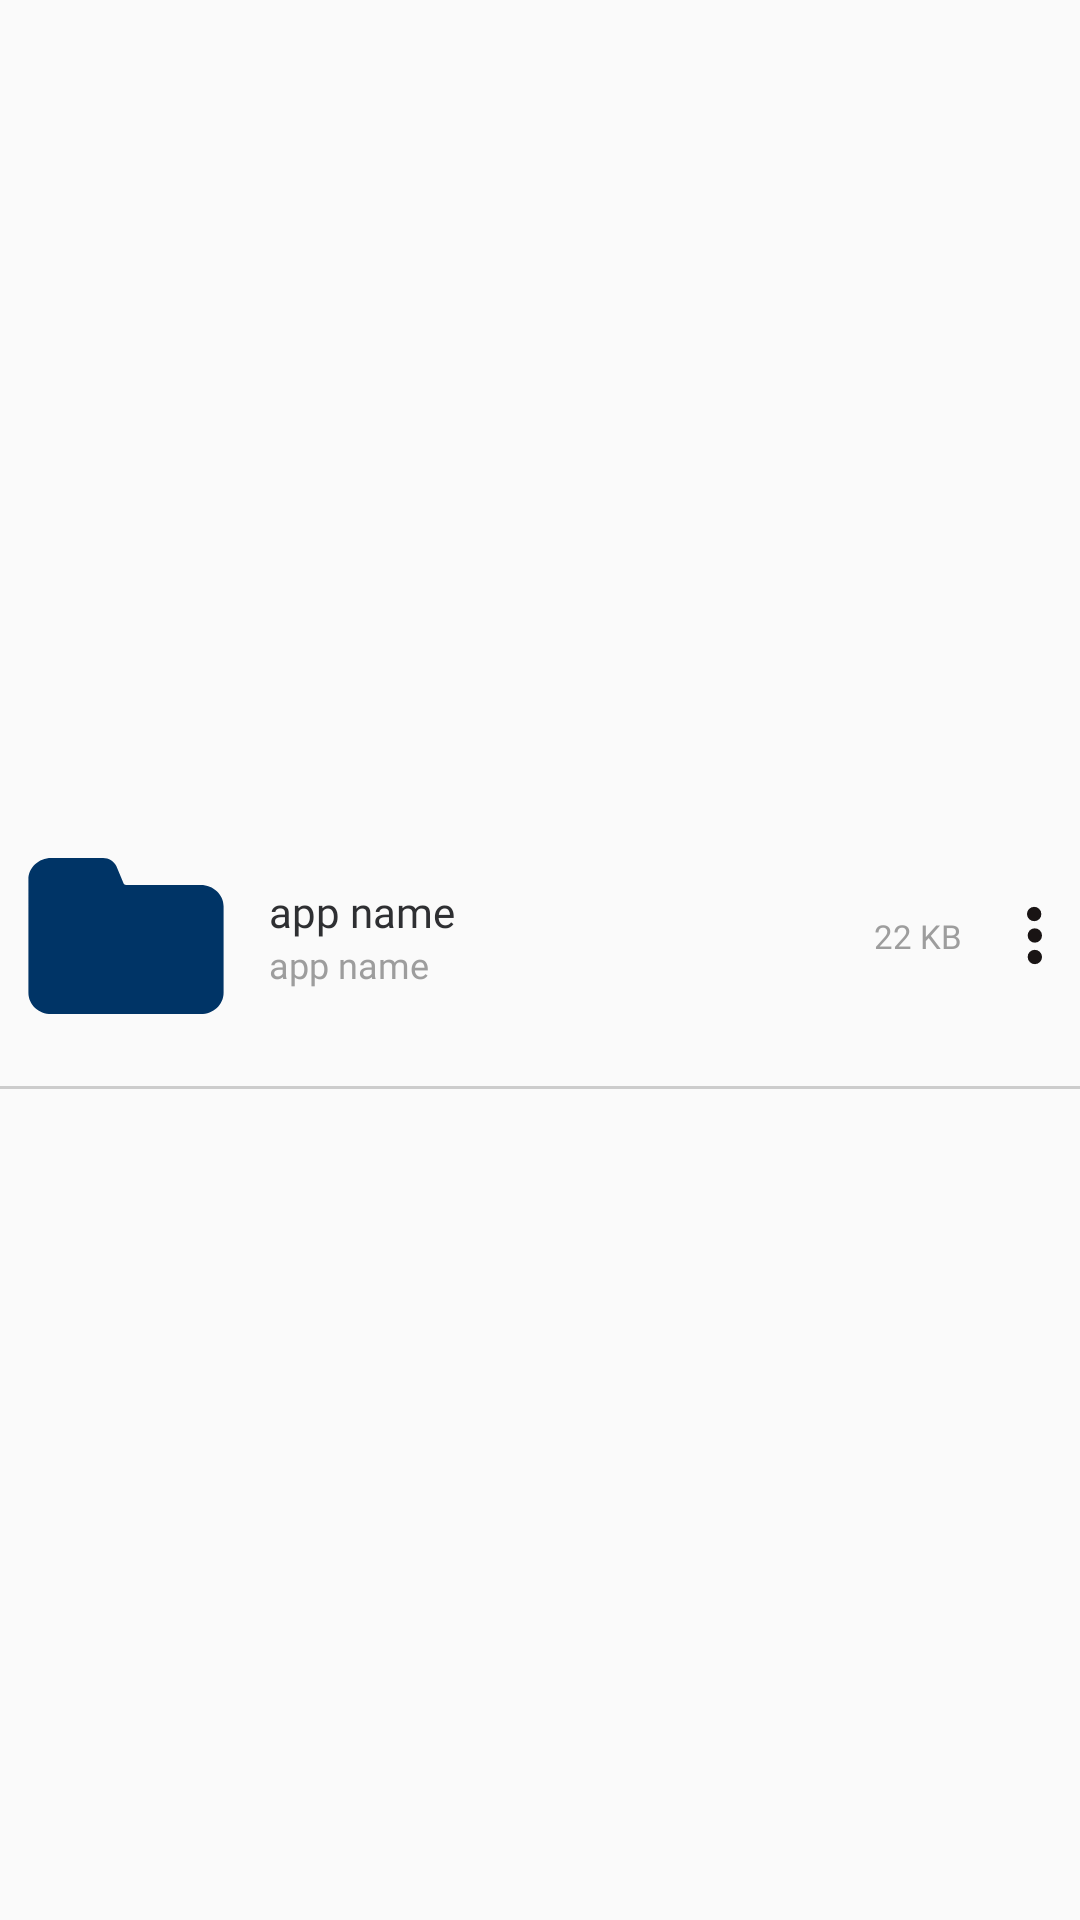

Point at icon controls on the screen. Image size 1080px x 1920px, points as [x,y].
folder: [126,936]
